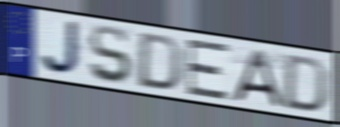A: (230, 48, 285, 110)
D: (134, 31, 185, 93), (280, 53, 331, 115)
E: (184, 38, 232, 102)
J: (39, 19, 85, 77)
S: (87, 24, 134, 86)
